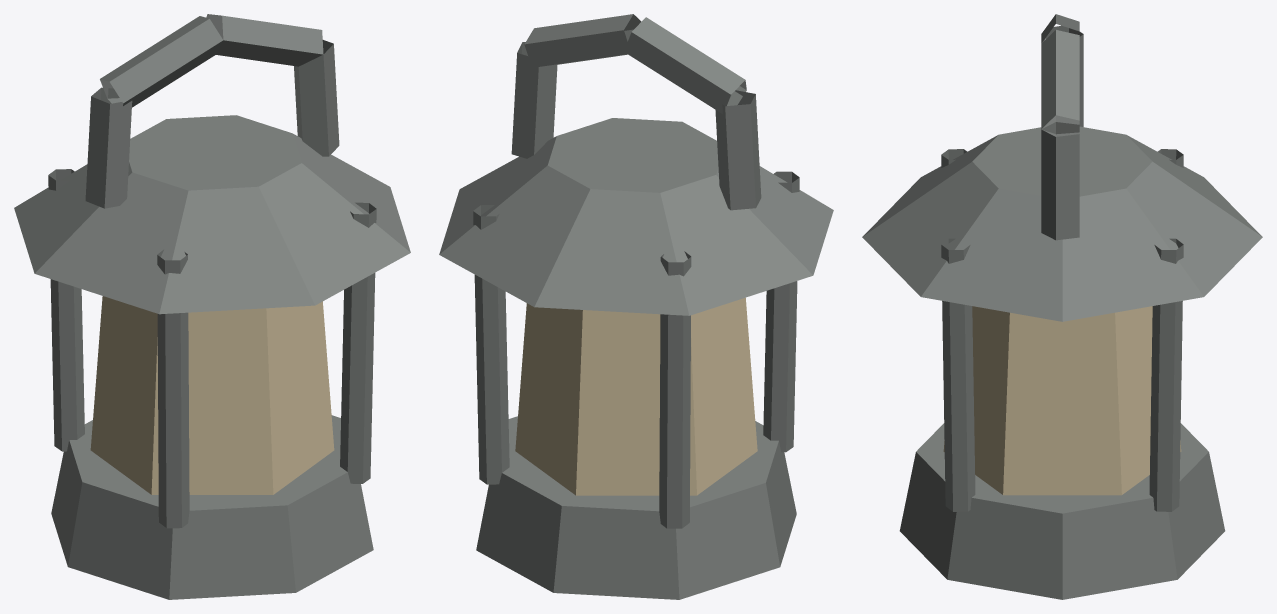
3 views of the same model, side by side, from view 1: azimuth 30°, elevation 25°; view 2: azimuth 150°, elevation 25°; view 3: azimuth 270°, elevation 25° (orthographic). The views are drawn at different scales.
Visible parts, largest first — view 1: C15; view 2: C15; view 3: C15.
Part boxes in pixels (bbox=[...]): C15: bbox=[14, 14, 410, 599]; C15: bbox=[439, 14, 833, 599]; C15: bbox=[862, 14, 1262, 599].
Size of the model in its own units: 0.32 by 0.4444 by 0.32.
